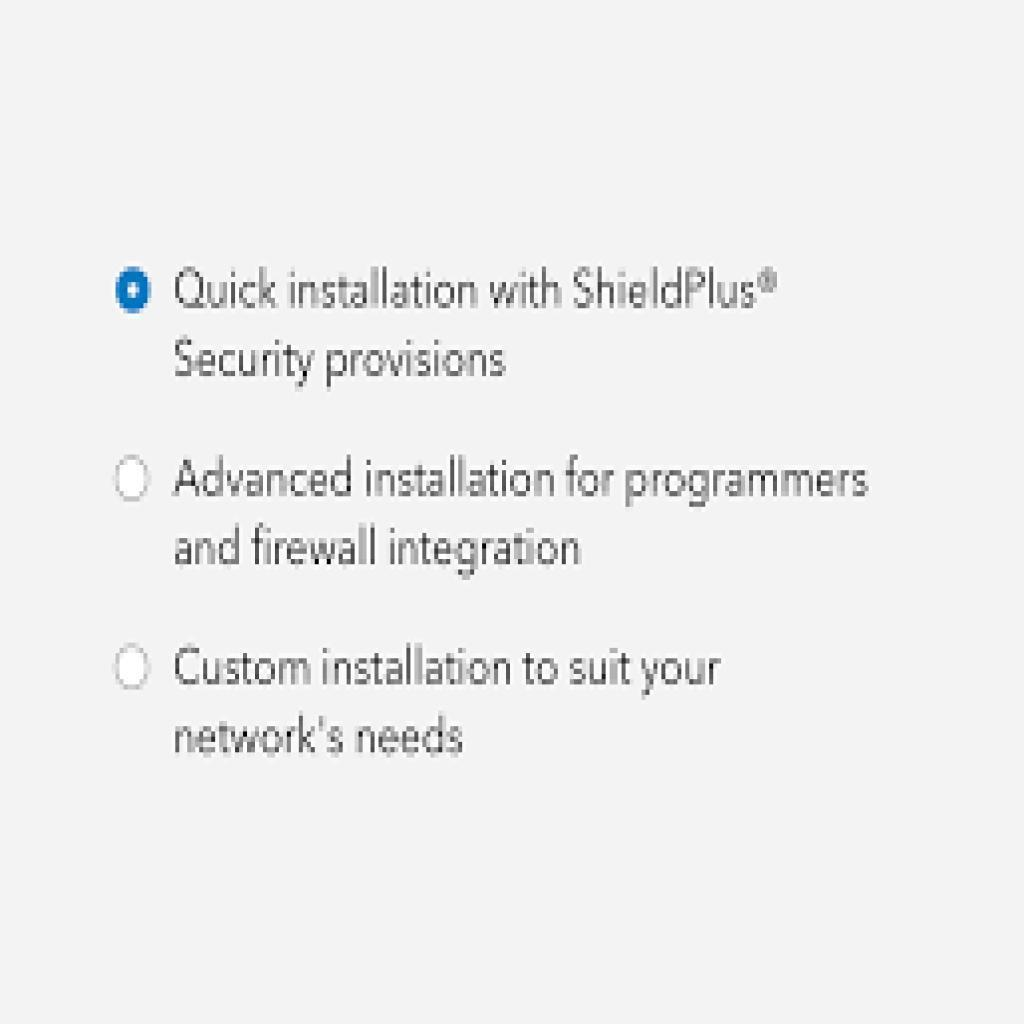radio: (111, 639, 155, 697), (112, 452, 156, 509), (111, 262, 153, 319)
